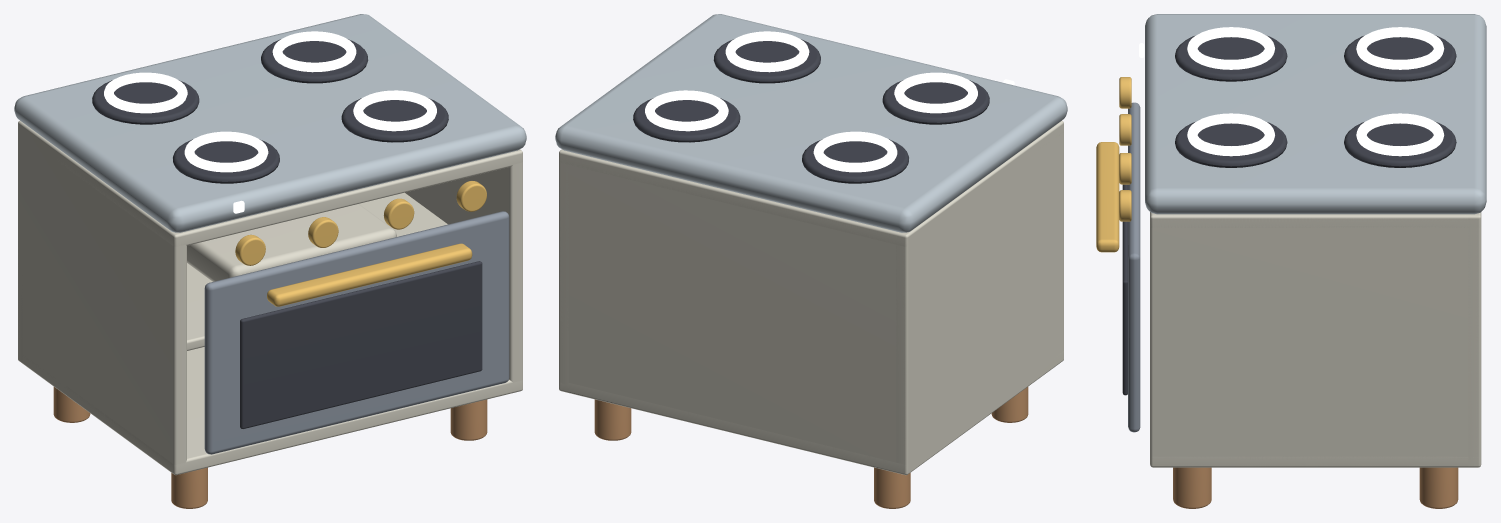
File: kitchenRange.glb
3 renders of one model, left to right at view 1: azimuth 30°, elevation 25°; view 2: azimuth 150°, elevation 25°; view 3: azimuth 270°, elevation 25°, orthographic. The views are drawn at different scales.
Visible parts, largest first — view 1: Cooktop, Storage inner side, Oven window, Oven front, Storage inner floor, Storage inner floor.001, Stored folded linen, Storage inner side.001, Brass handle.002, Burner.002, Burner, Burner.001 (+13 smaller); view 2: Storage inner back, Cooktop, Storage inner side, Storage inner floor.001, Storage inner floor, Burner.003, Burner, Burner.001, Burner.002, Burner ring.001, Burner ring, Burner ring.002 (+5 smaller); view 3: Storage inner side.001, Cooktop, Oven front, Storage inner floor.001, Storage inner floor, Storage inner back, Burner, Burner.001, Burner.003, Burner.002, Brass handle.002, Burner ring (+6 smaller).
Boxes of the visible parts, x1=… form: Cooktop: x1=14, y1=14, x2=526, y2=232; Storage inner side: x1=18, y1=122, x2=186, y2=475; Oven window: x1=240, y1=261, x2=482, y2=428; Oven front: x1=204, y1=211, x2=509, y2=454; Storage inner floor: x1=23, y1=347, x2=522, y2=474; Storage inner floor.001: x1=18, y1=121, x2=522, y2=246; Stored folded linen: x1=187, y1=204, x2=396, y2=281; Storage inner side.001: x1=405, y1=149, x2=522, y2=392; Brass handle.002: x1=267, y1=243, x2=472, y2=306; Burner.002: x1=341, y1=98, x2=448, y2=142; Burner: x1=173, y1=139, x2=279, y2=183; Burner.001: x1=92, y1=80, x2=199, y2=124; Storage inner back: x1=559, y1=150, x2=913, y2=474; Cooktop: x1=555, y1=14, x2=1067, y2=232; Storage inner side: x1=896, y1=122, x2=1063, y2=475; Storage inner floor.001: x1=559, y1=121, x2=1063, y2=246; Storage inner floor: x1=559, y1=351, x2=1063, y2=474; Burner.003: x1=633, y1=98, x2=740, y2=142; Burner: x1=882, y1=80, x2=989, y2=124; Burner.001: x1=802, y1=139, x2=908, y2=183; Burner.002: x1=713, y1=39, x2=820, y2=83; Burner ring.001: x1=813, y1=131, x2=897, y2=172; Burner ring: x1=894, y1=72, x2=977, y2=113; Burner ring.002: x1=725, y1=31, x2=809, y2=72; Storage inner side.001: x1=1150, y1=215, x2=1481, y2=467; Cooktop: x1=1145, y1=14, x2=1486, y2=214; Oven front: x1=1128, y1=102, x2=1140, y2=432; Storage inner floor.001: x1=1150, y1=212, x2=1481, y2=227; Storage inner floor: x1=1150, y1=456, x2=1480, y2=467; Storage inner back: x1=1468, y1=213, x2=1481, y2=466; Burner: x1=1175, y1=35, x2=1287, y2=81; Burner.001: x1=1344, y1=35, x2=1456, y2=81; Burner.003: x1=1344, y1=121, x2=1456, y2=167; Burner.002: x1=1175, y1=122, x2=1287, y2=167; Brass handle.002: x1=1096, y1=142, x2=1119, y2=252; Burner ring: x1=1187, y1=27, x2=1274, y2=69.
Size of the model in its own units: 1.23 by 1.07 by 1.11.
